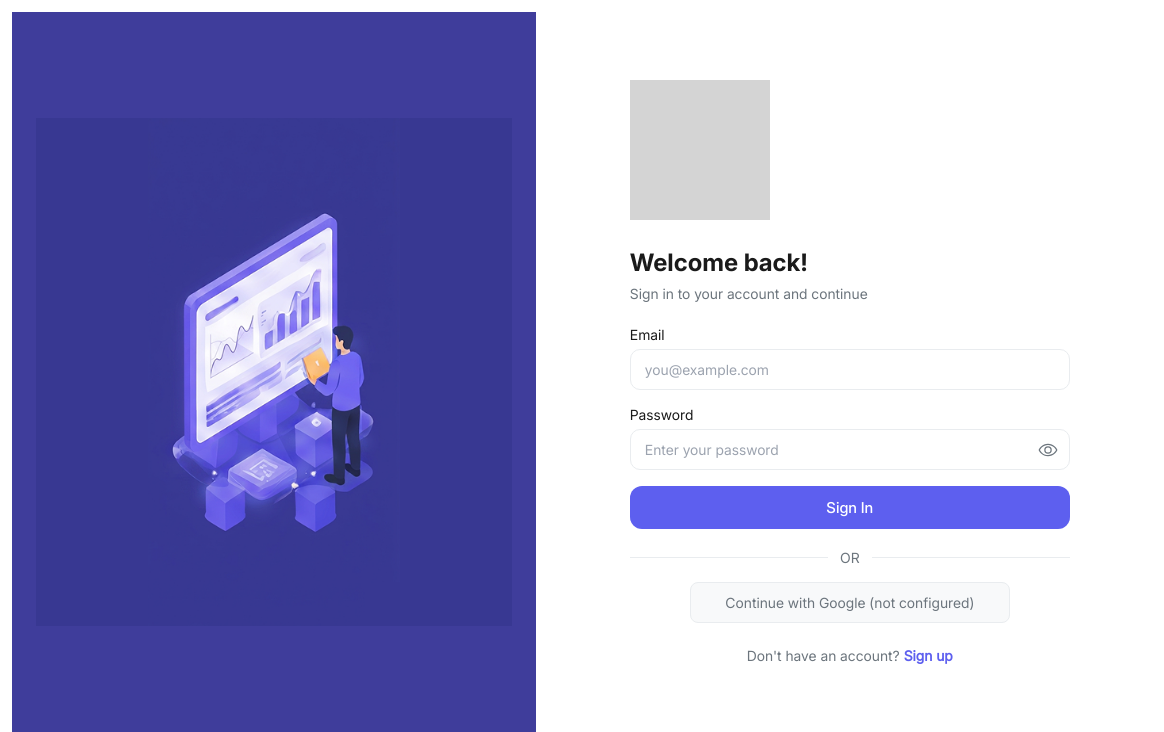
Test: an unreachable server gets a clear network message
The width and height of the screenshot is (1164, 732).
Type "zed@example.test" into the field labelled "Email" at (850, 370), box [630,349,1070,390]
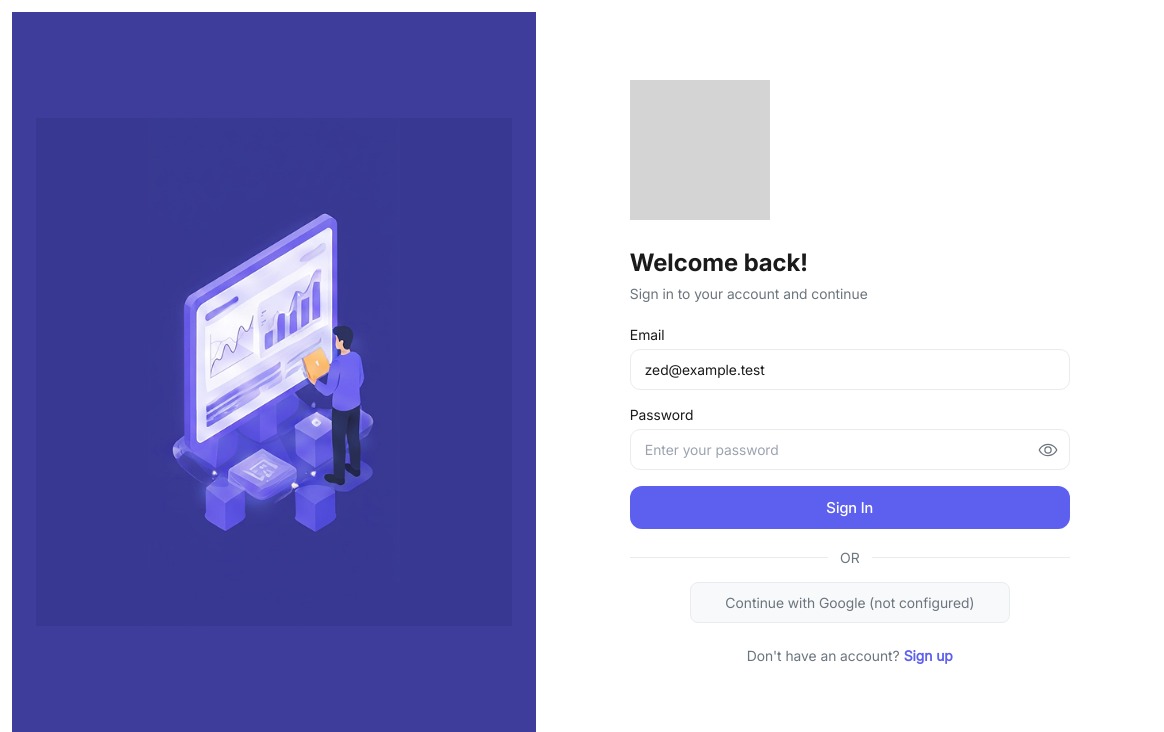
Type "Password-123" into the password field labelled "Password" at (850, 450), box [630,429,1070,470]
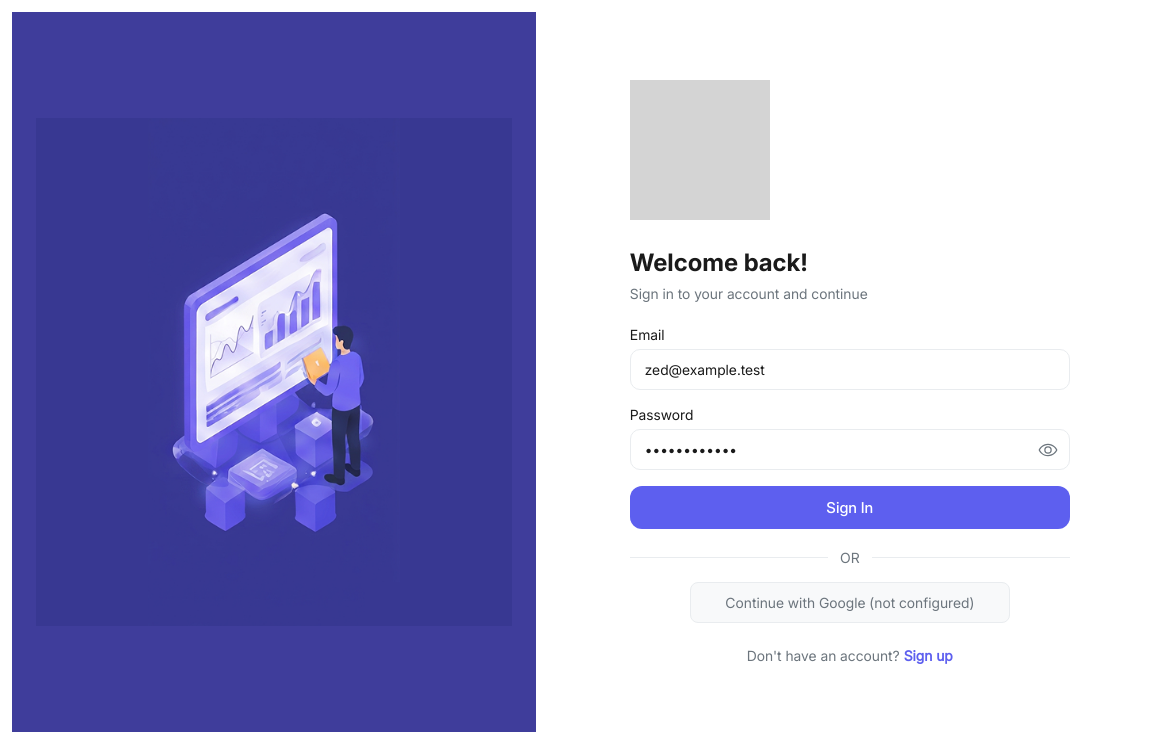
Click the button "Sign In" at (850, 508), box [630,486,1070,529]
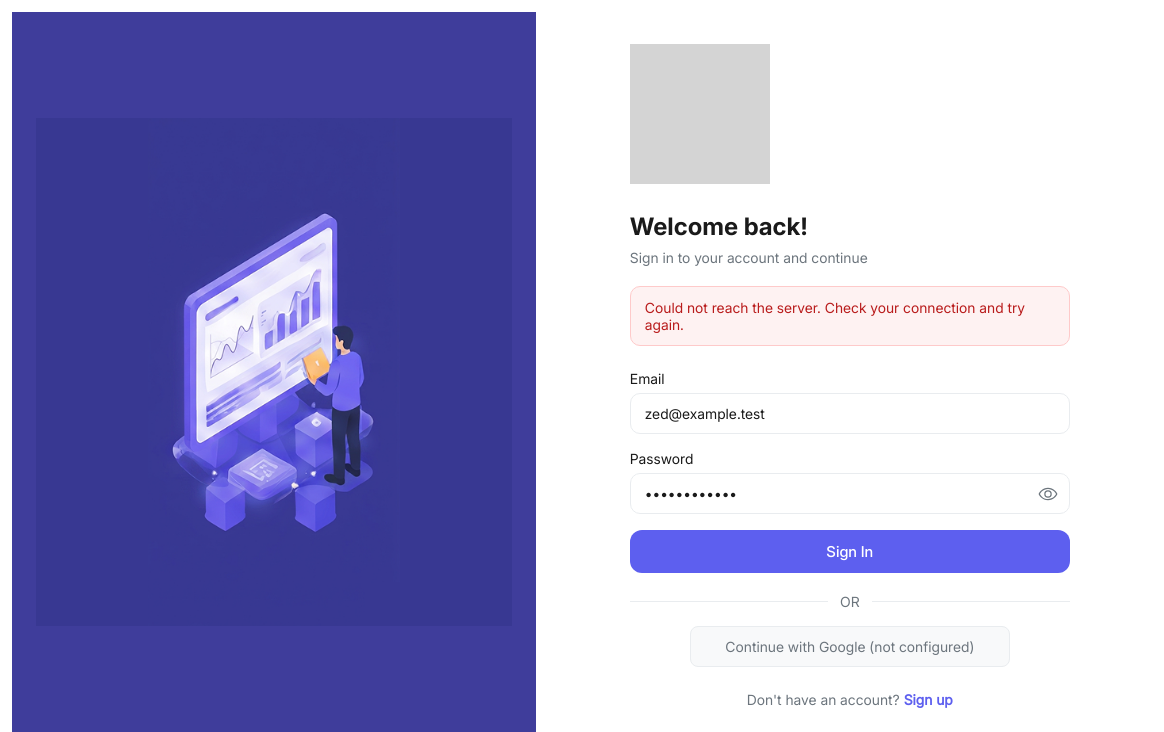
Now the message shows "Could not reach the server", box [645,299,1025,333]
